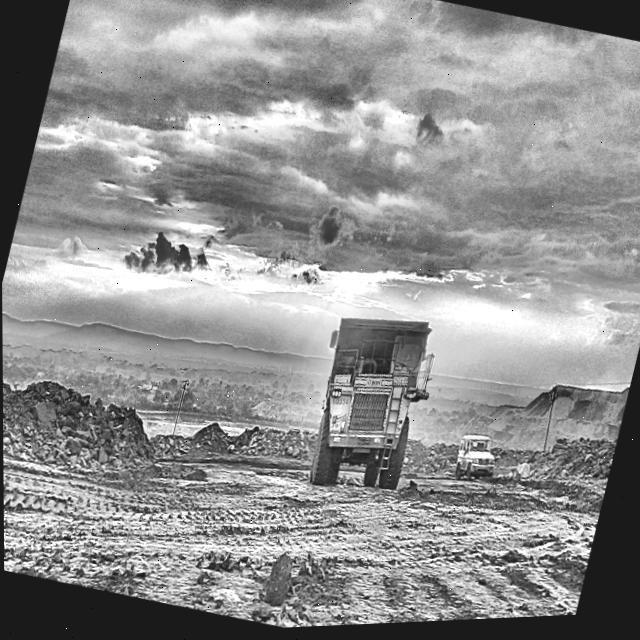dump_truck: (308, 320, 428, 489)
